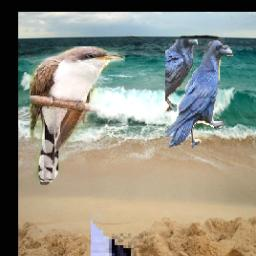Crow: (90, 20, 175, 256), (165, 40, 234, 150)
Cuckoo: (30, 47, 125, 186)
